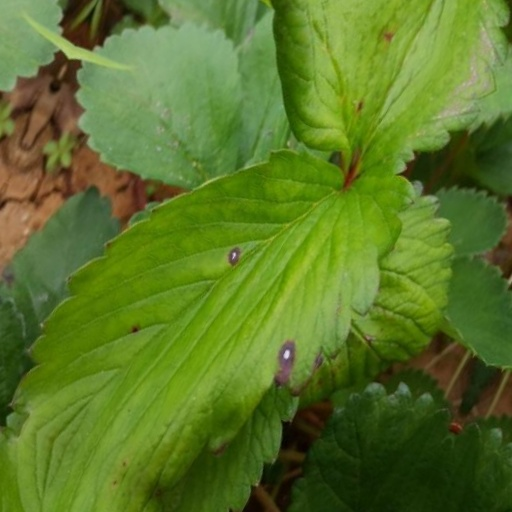Leaf Spot: (89, 119, 383, 511), (143, 0, 423, 154), (359, 116, 453, 380), (33, 265, 125, 436), (0, 400, 108, 511)
